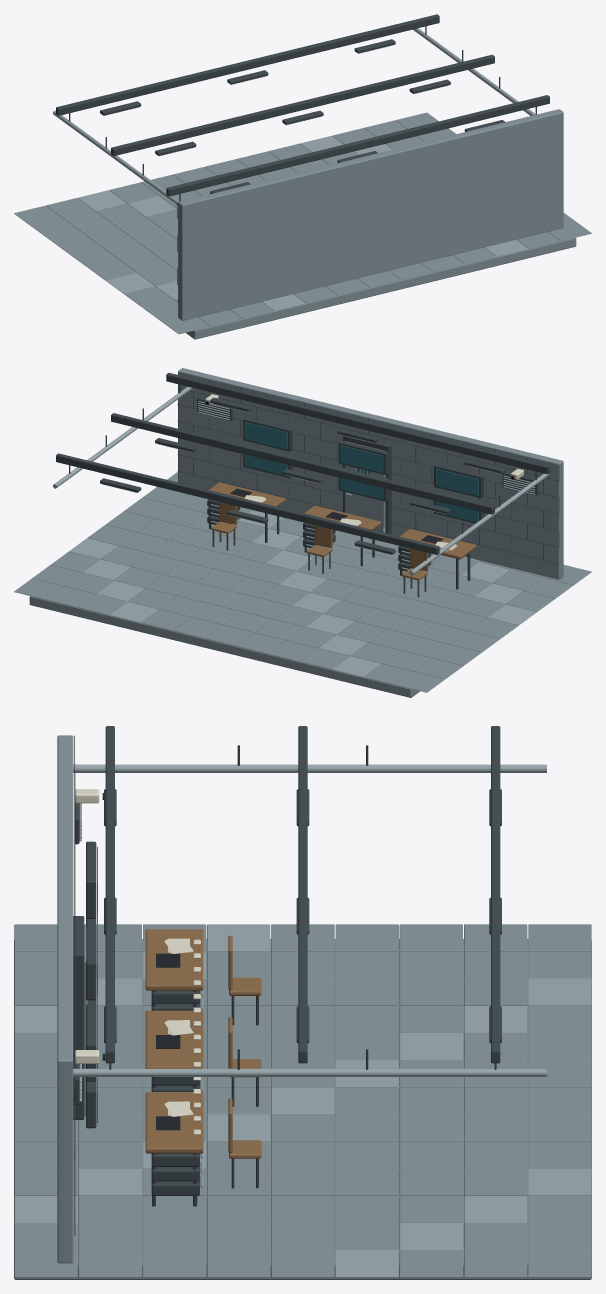
The model's file is security.glb.
3 renders of one model, top to bottom at view 1: azimuth 30°, elevation 25°; view 2: azimuth 150°, elevation 25°; view 3: azimuth 270°, elevation 25°, orthographic. The views are drawn at different scales.
Parts seen in each view (by area): view 1: security-blue painted masonry, security-forged graphite steel, security-galvanized edges; view 2: security-blue painted masonry, security-forged graphite steel, security-galvanized edges, security-monitor glass, security-worn oak, security-aged paper; view 3: security-blue painted masonry, security-galvanized edges, security-forged graphite steel, security-worn oak, security-aged paper, security-rubber.
Part boxes in pixels (<box>): security-blue painted masonry: <box>14,109,591,339</box>; security-forged graphite steel: <box>56,14,549,301</box>; security-galvanized edges: <box>53,28,535,310</box>; security-blue painted masonry: <box>14,368,591,697</box>; security-forged graphite steel: <box>56,373,559,597</box>; security-galvanized edges: <box>53,386,548,677</box>; security-monitor glass: <box>244,422,478,522</box>; security-worn oak: <box>209,482,476,580</box>; security-aged paper: <box>205,394,523,551</box>; security-blue painted masonry: <box>14,735,591,1279</box>; security-galvanized edges: <box>14,764,591,1277</box>; security-forged graphite steel: <box>73,726,501,1235</box>; security-worn oak: <box>145,929,261,1158</box>; security-aged paper: <box>75,789,200,1134</box>; security-rubber: <box>102,793,180,1130</box>.
Size of the model in its own units: 12.99 by 3.94 by 9.
